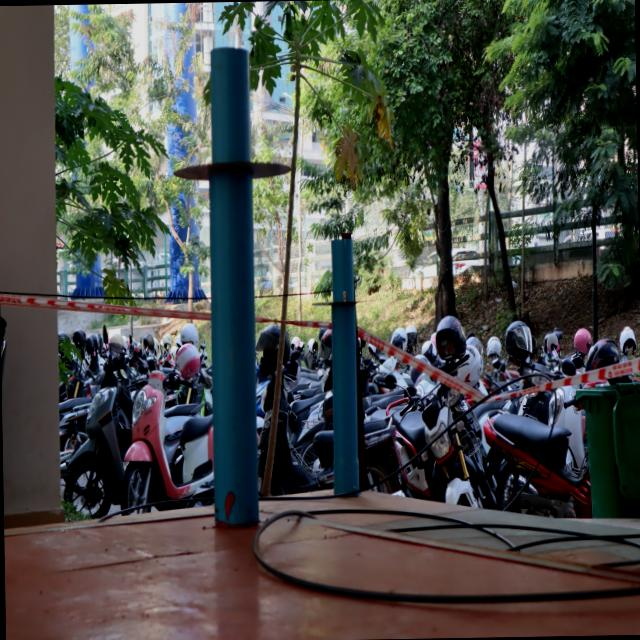pole: (163, 41, 300, 296), (311, 232, 374, 365)
